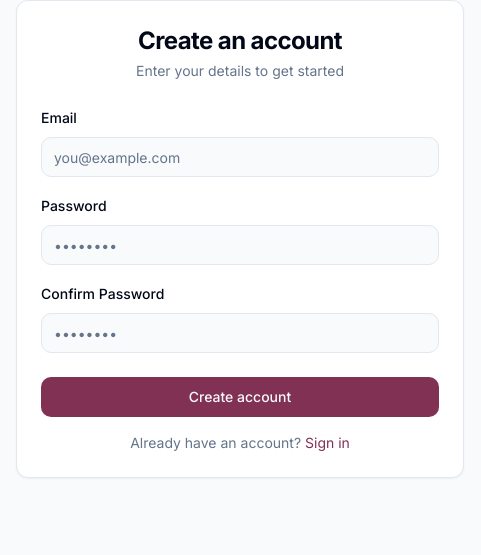
Test: RegisterForm › should show error when passwords do not match
In the field labelled "Email": (240, 157) [41,137,439,177], type "test@test.com"
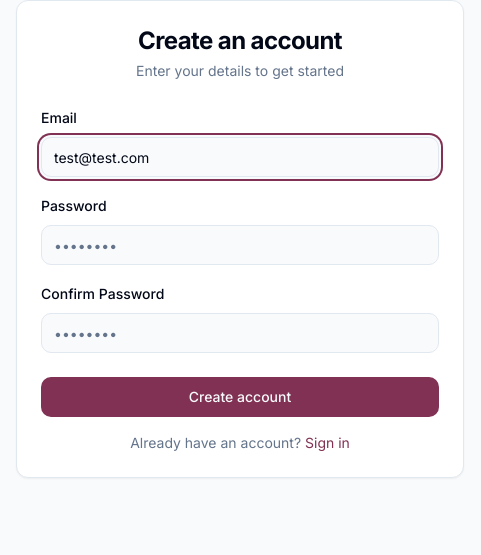
In the password field labelled "Password": (240, 245) [41,225,439,265], type "password123"
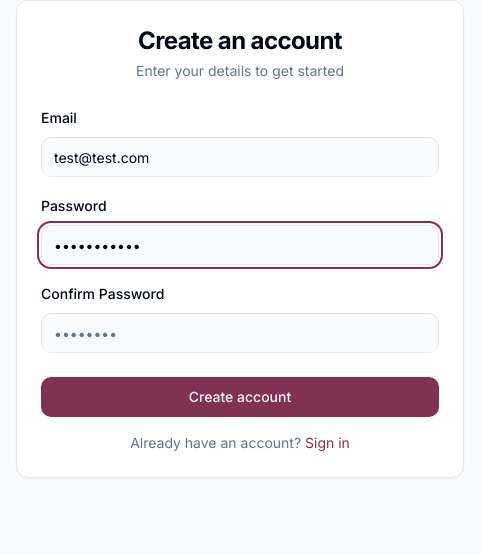
In the password field labelled "Confirm Password": (240, 333) [41,313,439,353], type "different123"
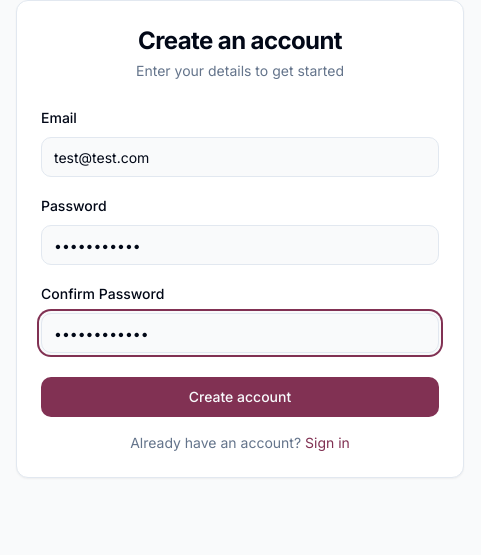
Click the button "Create account": (240, 397) [41,377,439,417]
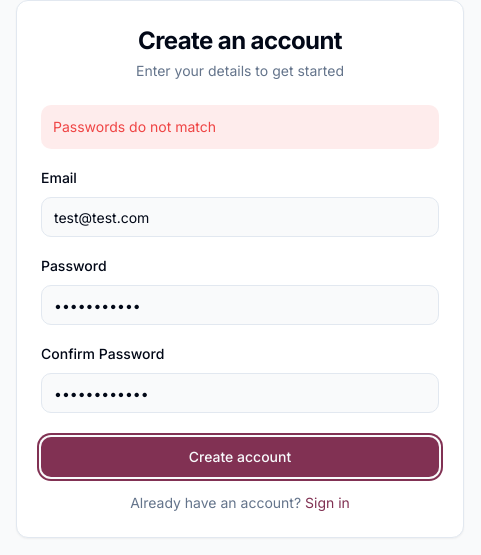
Check: the message reads "Passwords do not match", box [53,118,216,135]
